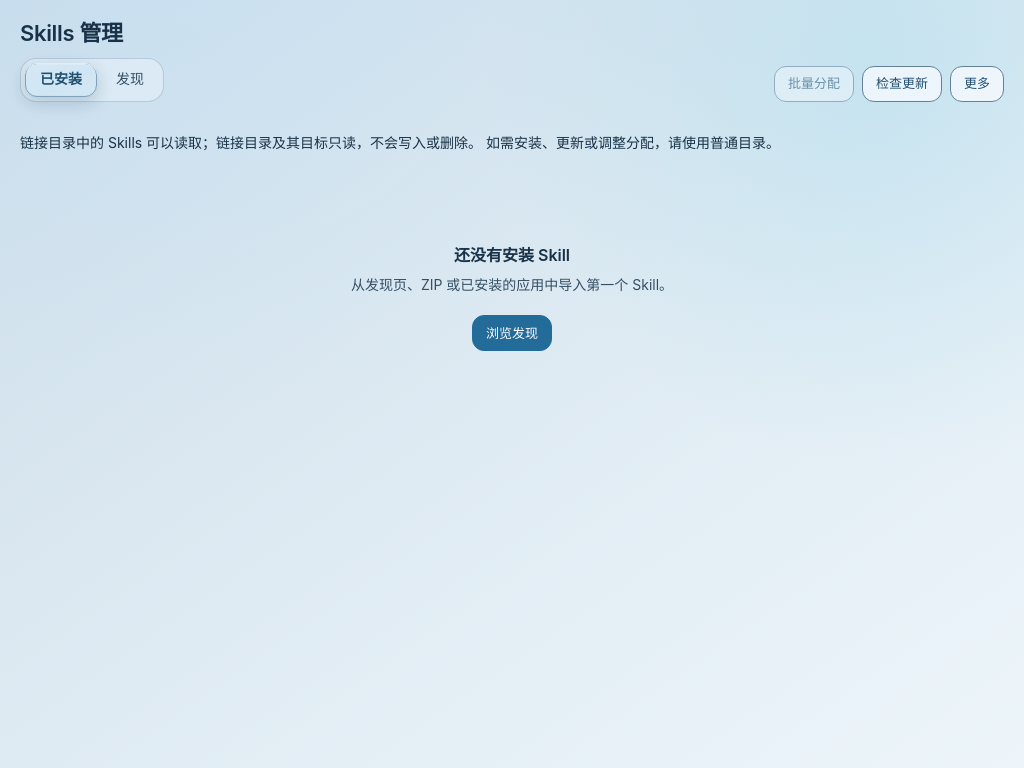
Skills management › paginates Skill 市场 discovery with page size 21
Expected: the heading "还没有安装 Skill" is shown, [454,245,570,266]
What coordinates should you click on to do the following:
click the tab "发现"
I would click on:
 (130, 80)
Its box is [101,62,159,96].
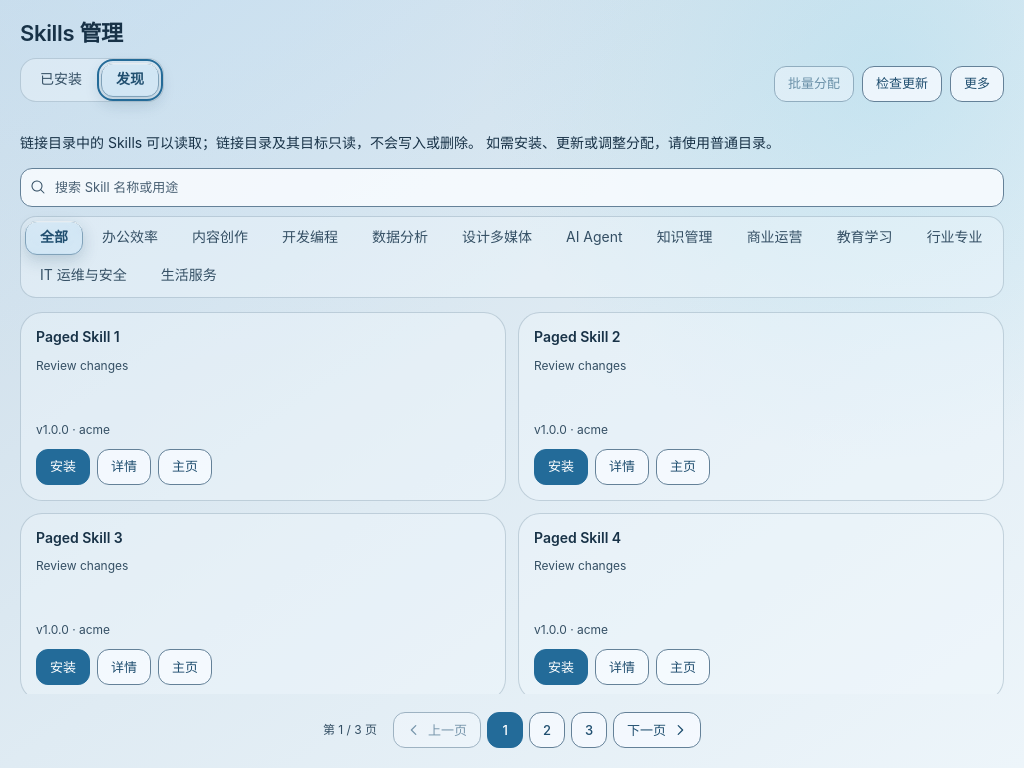
Result: the heading "Paged Skill 1" is shown at [36,328,120,347]
What coordinates should you click on to do the following:
click the button "3"
I would click on:
 (589, 730)
Its box is [571,712,607,748].
(page scrolled)
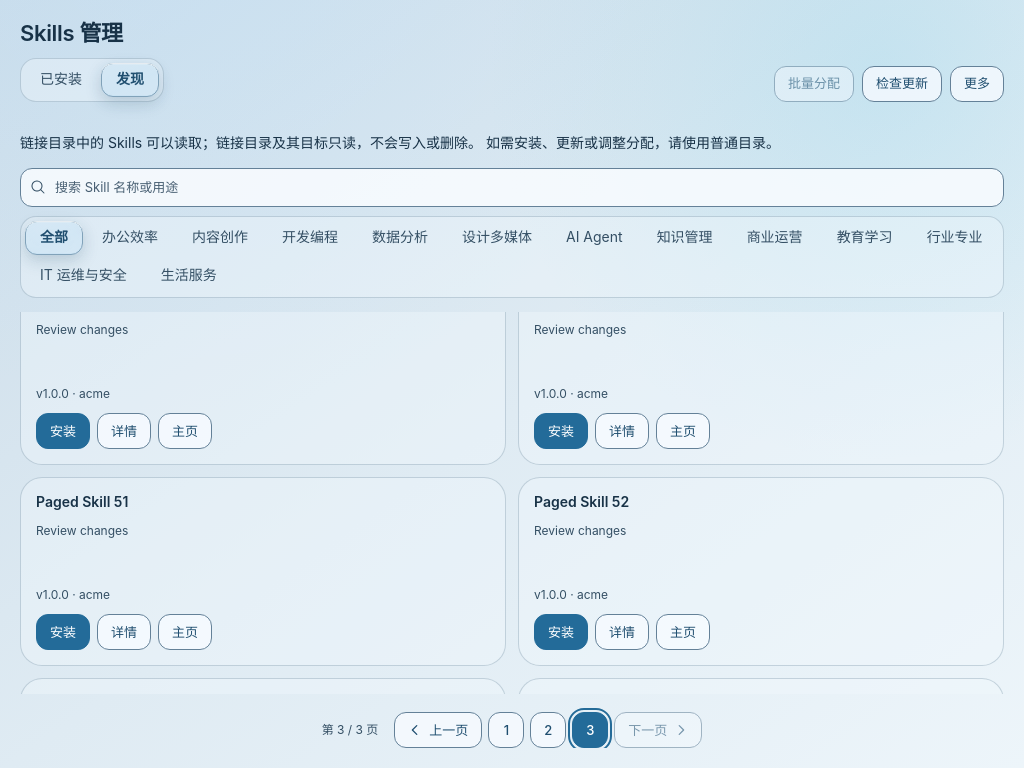
Result: the heading "Paged Skill 51" is shown at [36,493,128,512]
